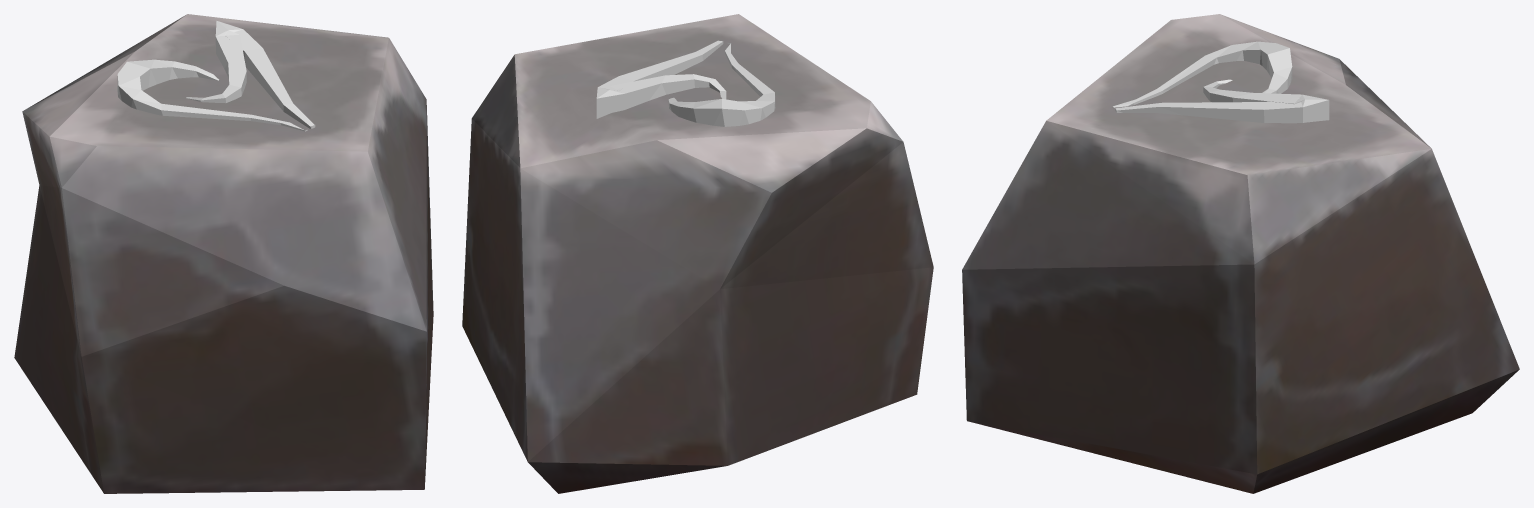
File: heartrune.fbx
The picture shows the model from 3 angles, left to right: view 1: azimuth 30°, elevation 25°; view 2: azimuth 150°, elevation 25°; view 3: azimuth 270°, elevation 25°; orthographic projection. The views are drawn at different scales.
Parts seen in each view (by area): view 1: Stone_1_Low, BezierCurve; view 2: Stone_1_Low, BezierCurve; view 3: Stone_1_Low, BezierCurve.
Boxes of the visible parts, x1=… form: Stone_1_Low: x1=14, y1=14, x2=433, y2=493; BezierCurve: x1=117, y1=21, x2=315, y2=131; Stone_1_Low: x1=462, y1=14, x2=933, y2=493; BezierCurve: x1=596, y1=40, x2=775, y2=126; Stone_1_Low: x1=962, y1=14, x2=1519, y2=493; BezierCurve: x1=1112, y1=41, x2=1329, y2=123.
Size of the model in its own units: 33.48 by 26.54 by 40.54.
